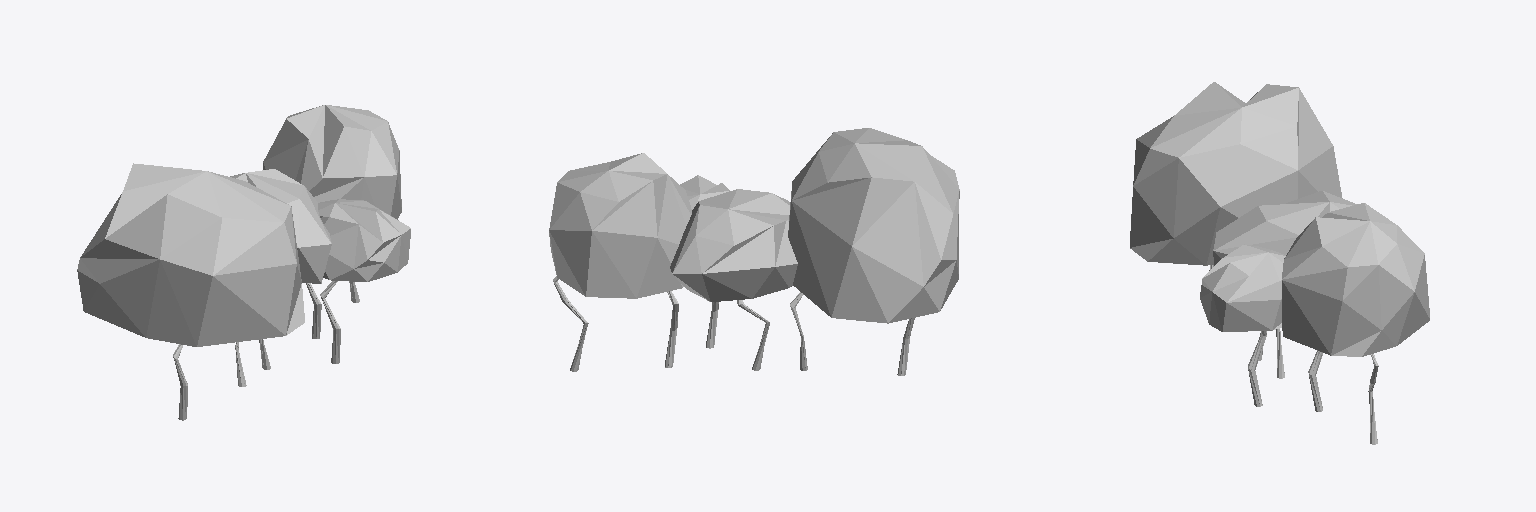
File: bushTrees.obj
3 renders of one model, left to right at view 1: azimuth 30°, elevation 25°; view 2: azimuth 150°, elevation 25°; view 3: azimuth 270°, elevation 25°, orthographic.
Parts seen in each view (by area): view 1: bushTress; view 2: bushTress; view 3: bushTress.
Part boxes in pixels (bbox=[...]): bushTress: bbox=[77, 105, 410, 420]; bushTress: bbox=[549, 128, 959, 375]; bushTress: bbox=[1130, 82, 1429, 444].
Size of the model in its own units: 549 by 346 by 409.